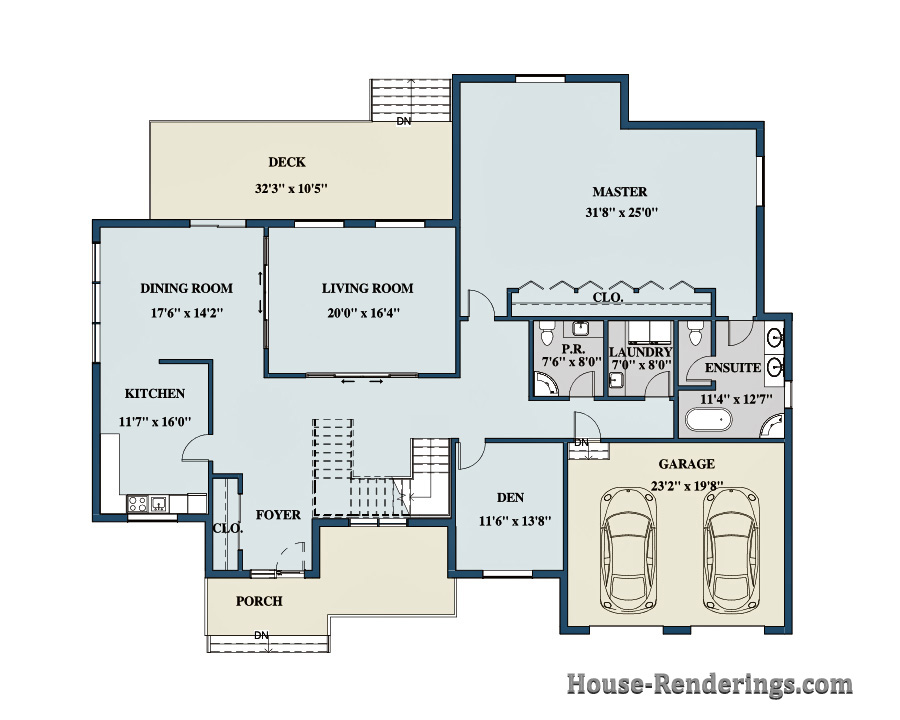door: (178, 431, 210, 467), (275, 535, 307, 571), (455, 442, 487, 478), (465, 281, 497, 317), (566, 367, 598, 395), (640, 369, 672, 397), (678, 355, 710, 383), (724, 319, 756, 347), (570, 407, 602, 435)
room: (91, 357, 214, 522)
window: (92, 242, 101, 363), (349, 516, 408, 527)
